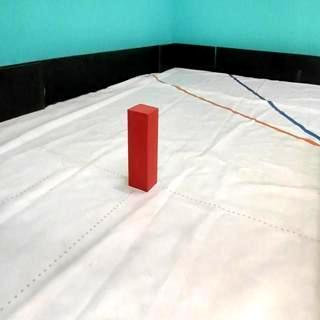redbox: (128, 102, 158, 190)
